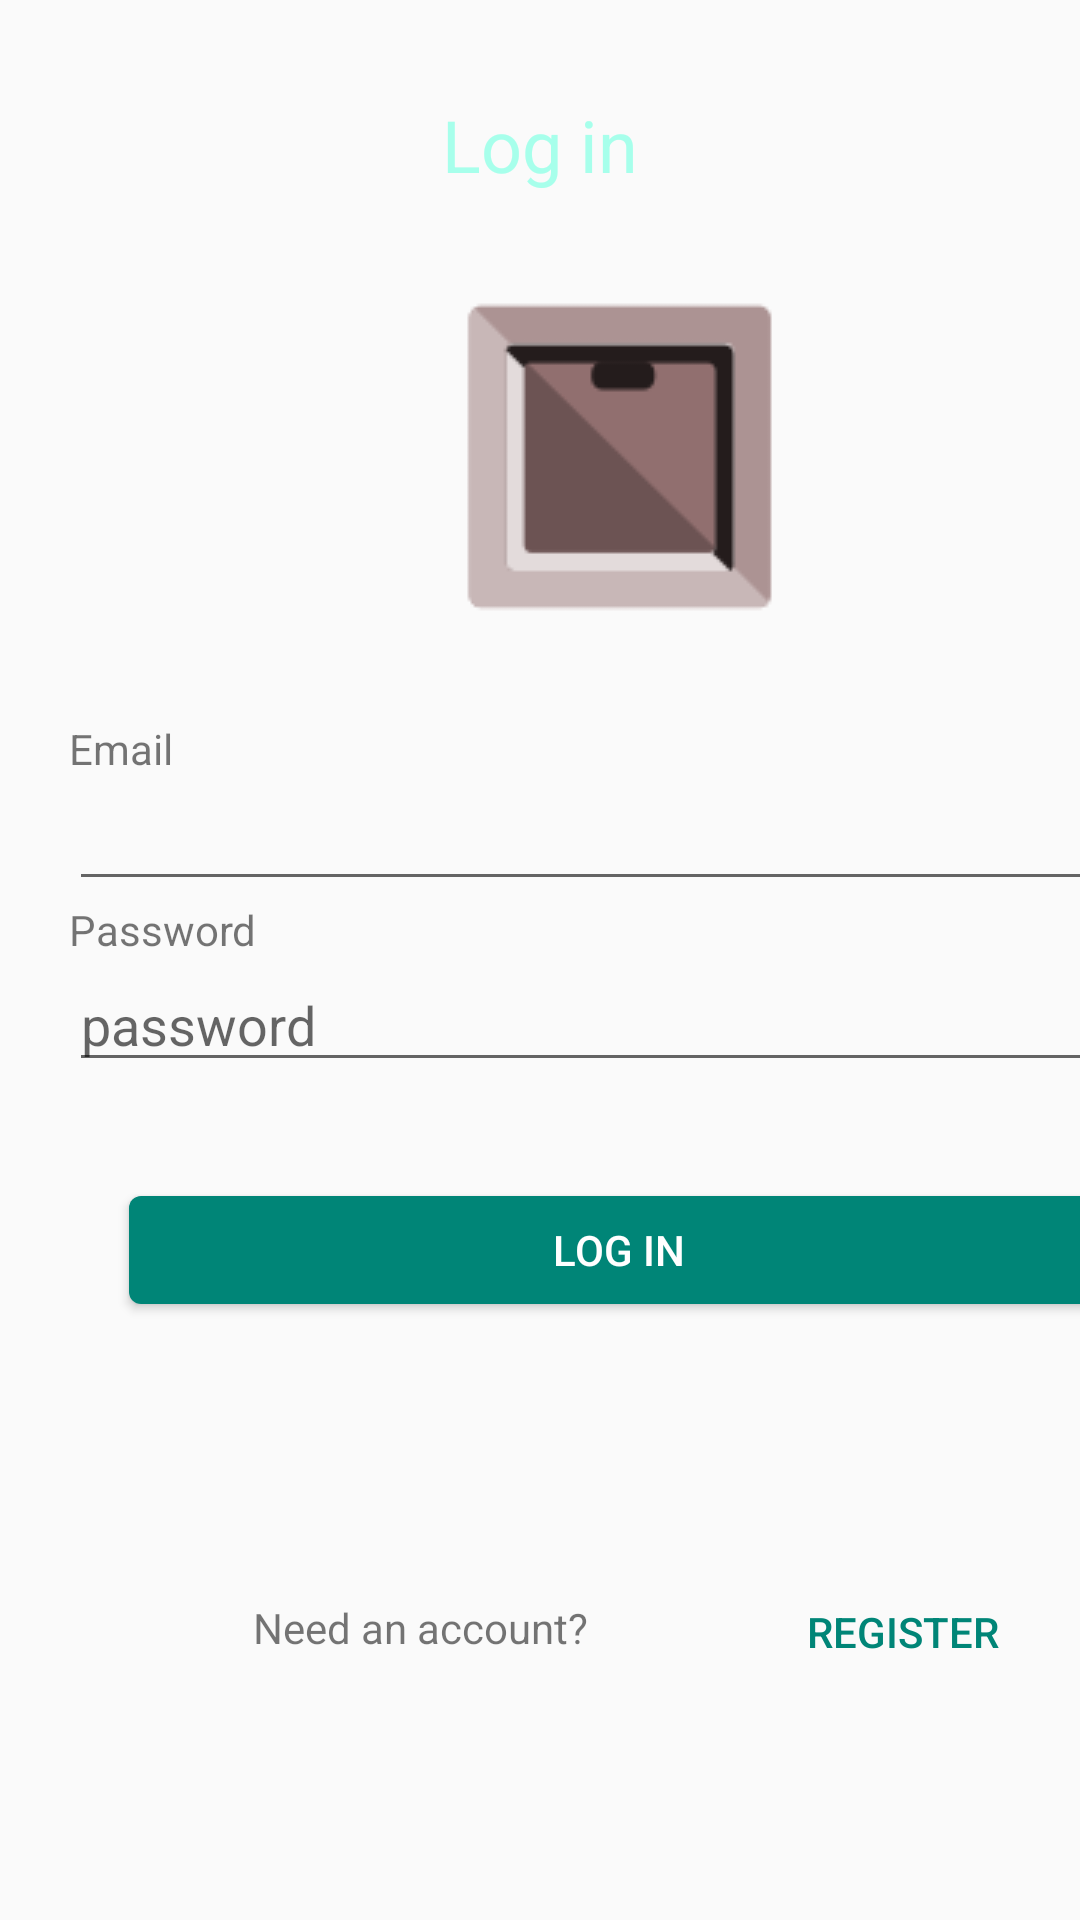

Screen size 1080*1920. Icon name, then its center in pixels as point (x, y):
box: point (620, 456)
